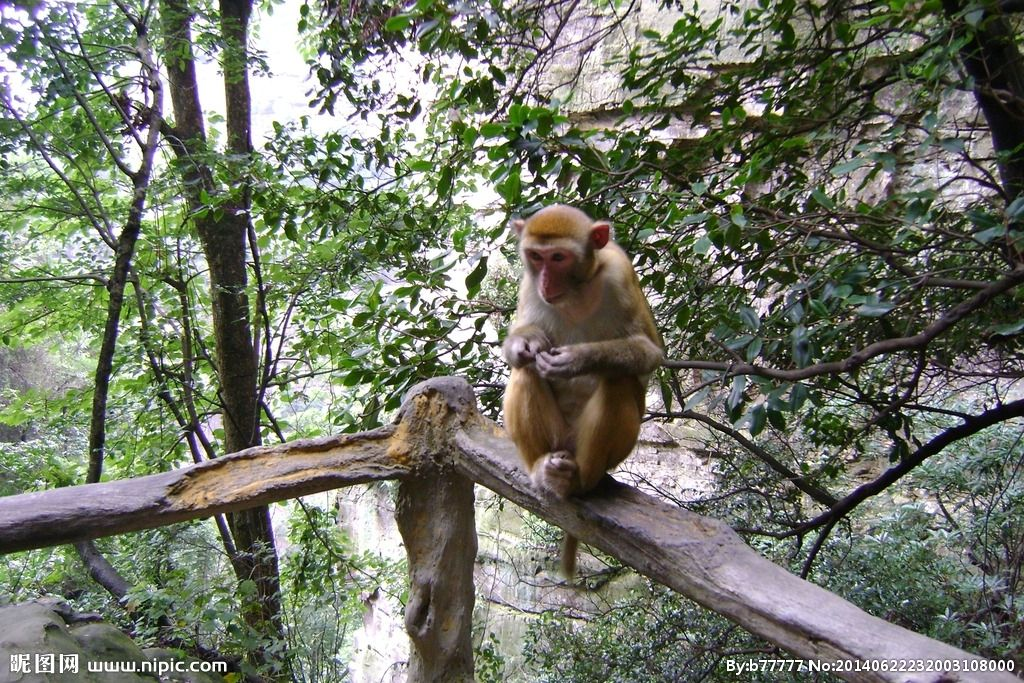monkey: (479, 207, 672, 509)
